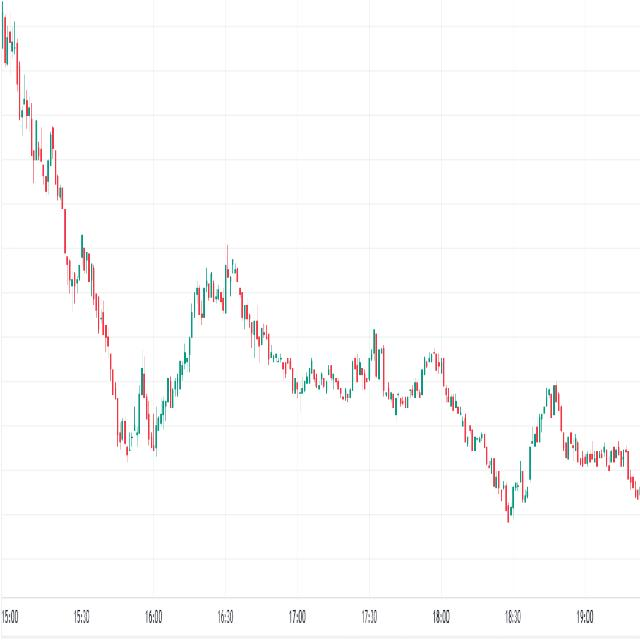Double-Bottom: (102, 321, 184, 470)
